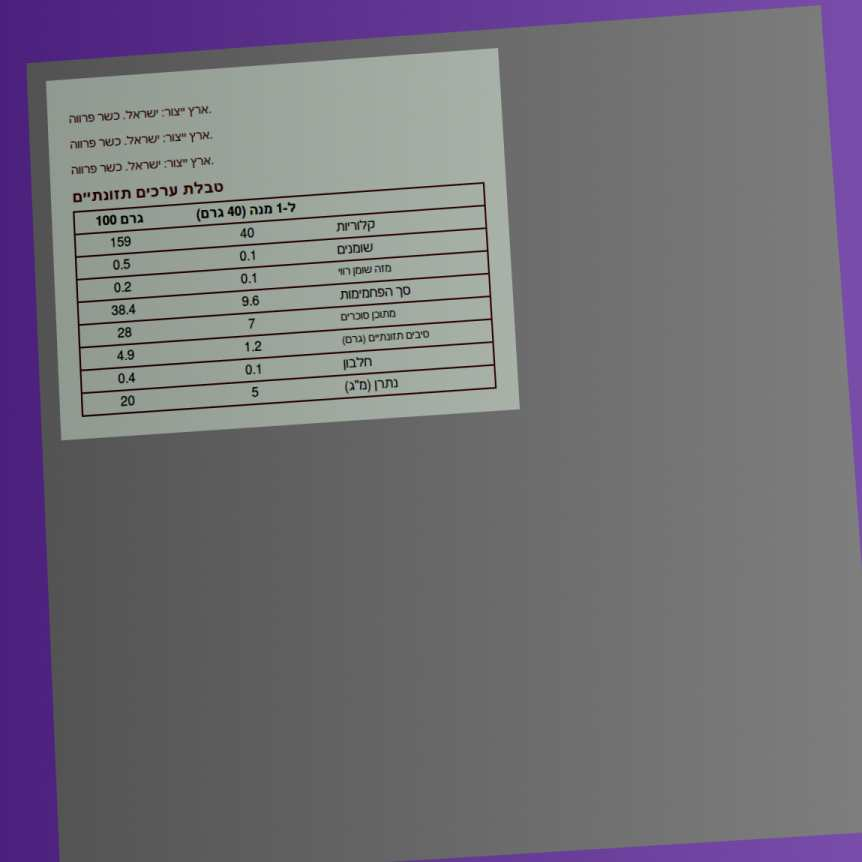carbs: (109, 301, 138, 320)
energy: (108, 234, 133, 252)
fat: (111, 256, 132, 274)
protein: (116, 370, 137, 388)
